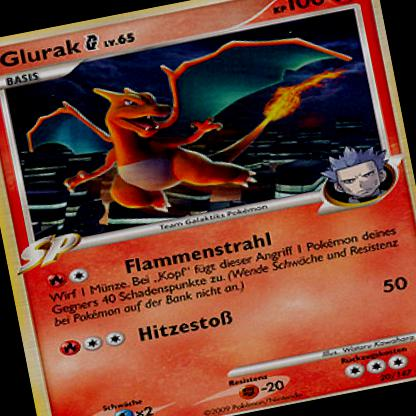Charizard: (12, 24, 373, 207)
